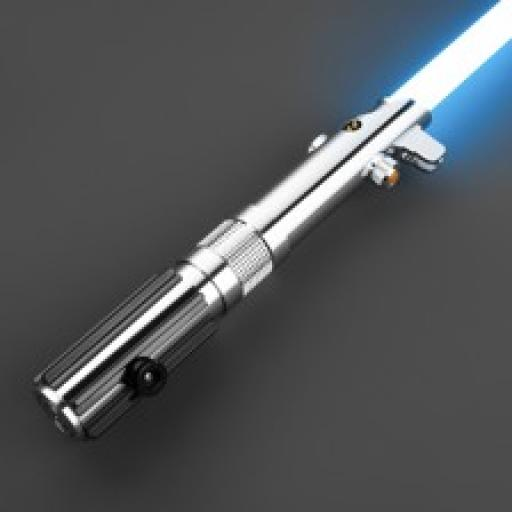lightsaber: (32, 0, 510, 441)
